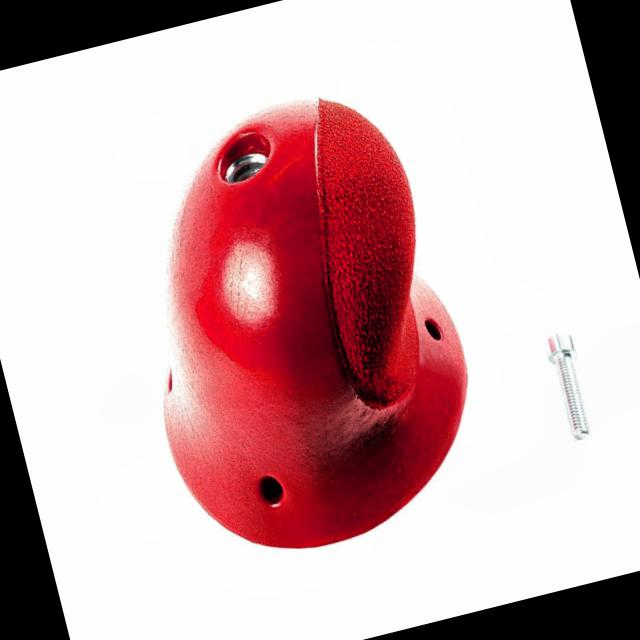Hold: (85, 49, 518, 582)
